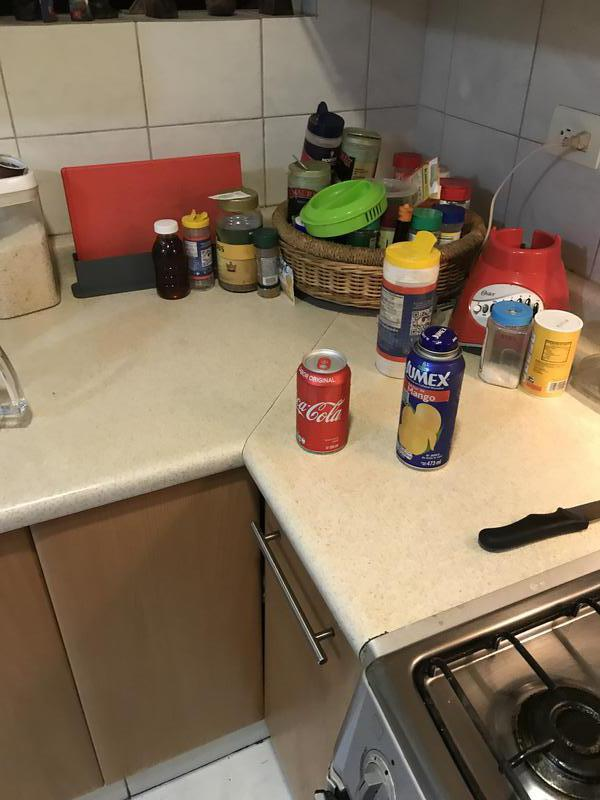coca_cola: (295, 350, 352, 454)
jugo_jumex: (397, 328, 460, 470)
